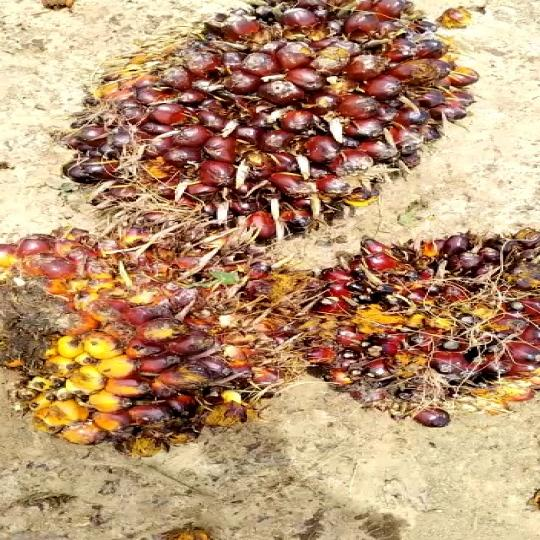masak: (47, 0, 498, 262), (0, 221, 313, 464), (296, 223, 538, 439)
